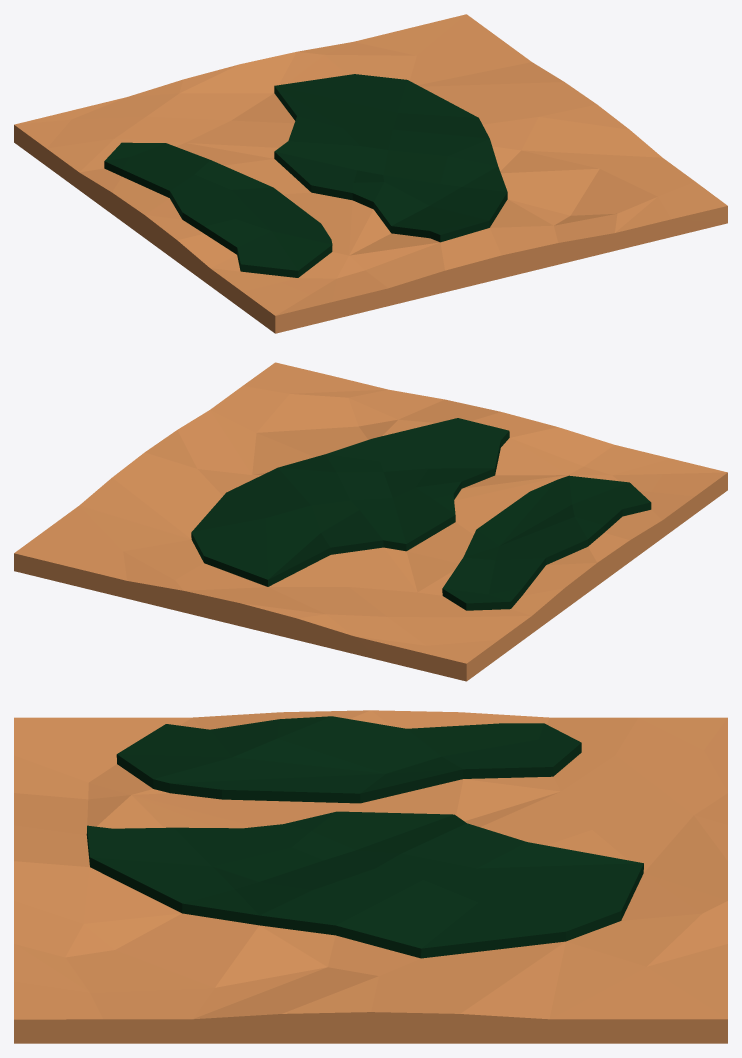
Rendered from Road_green_8.FBX.
3 renders of one model, top to bottom at view 1: azimuth 30°, elevation 25°; view 2: azimuth 150°, elevation 25°; view 3: azimuth 270°, elevation 25°, orthographic. The views are drawn at different scales.
Visible parts, largest first — view 1: Road_green_8; view 2: Road_green_8; view 3: Road_green_8.
Part boxes in pixels (x1,y1,x2,y2): Road_green_8: (14,14,727,333); Road_green_8: (14,362,727,681); Road_green_8: (14,710,727,1043).
Bounding box in the file's own units: 1.5 × 0.1067 × 1.5.
1 material, 1 textured.
